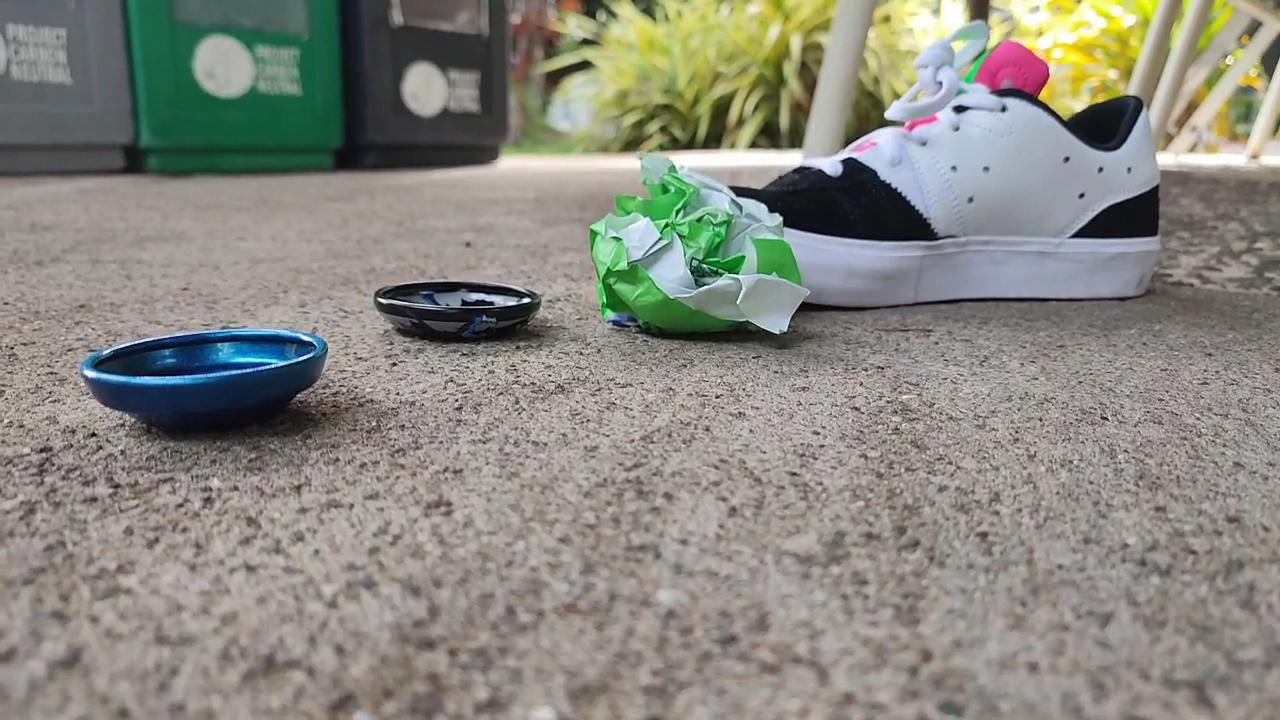Paper: (585, 134, 812, 346)
